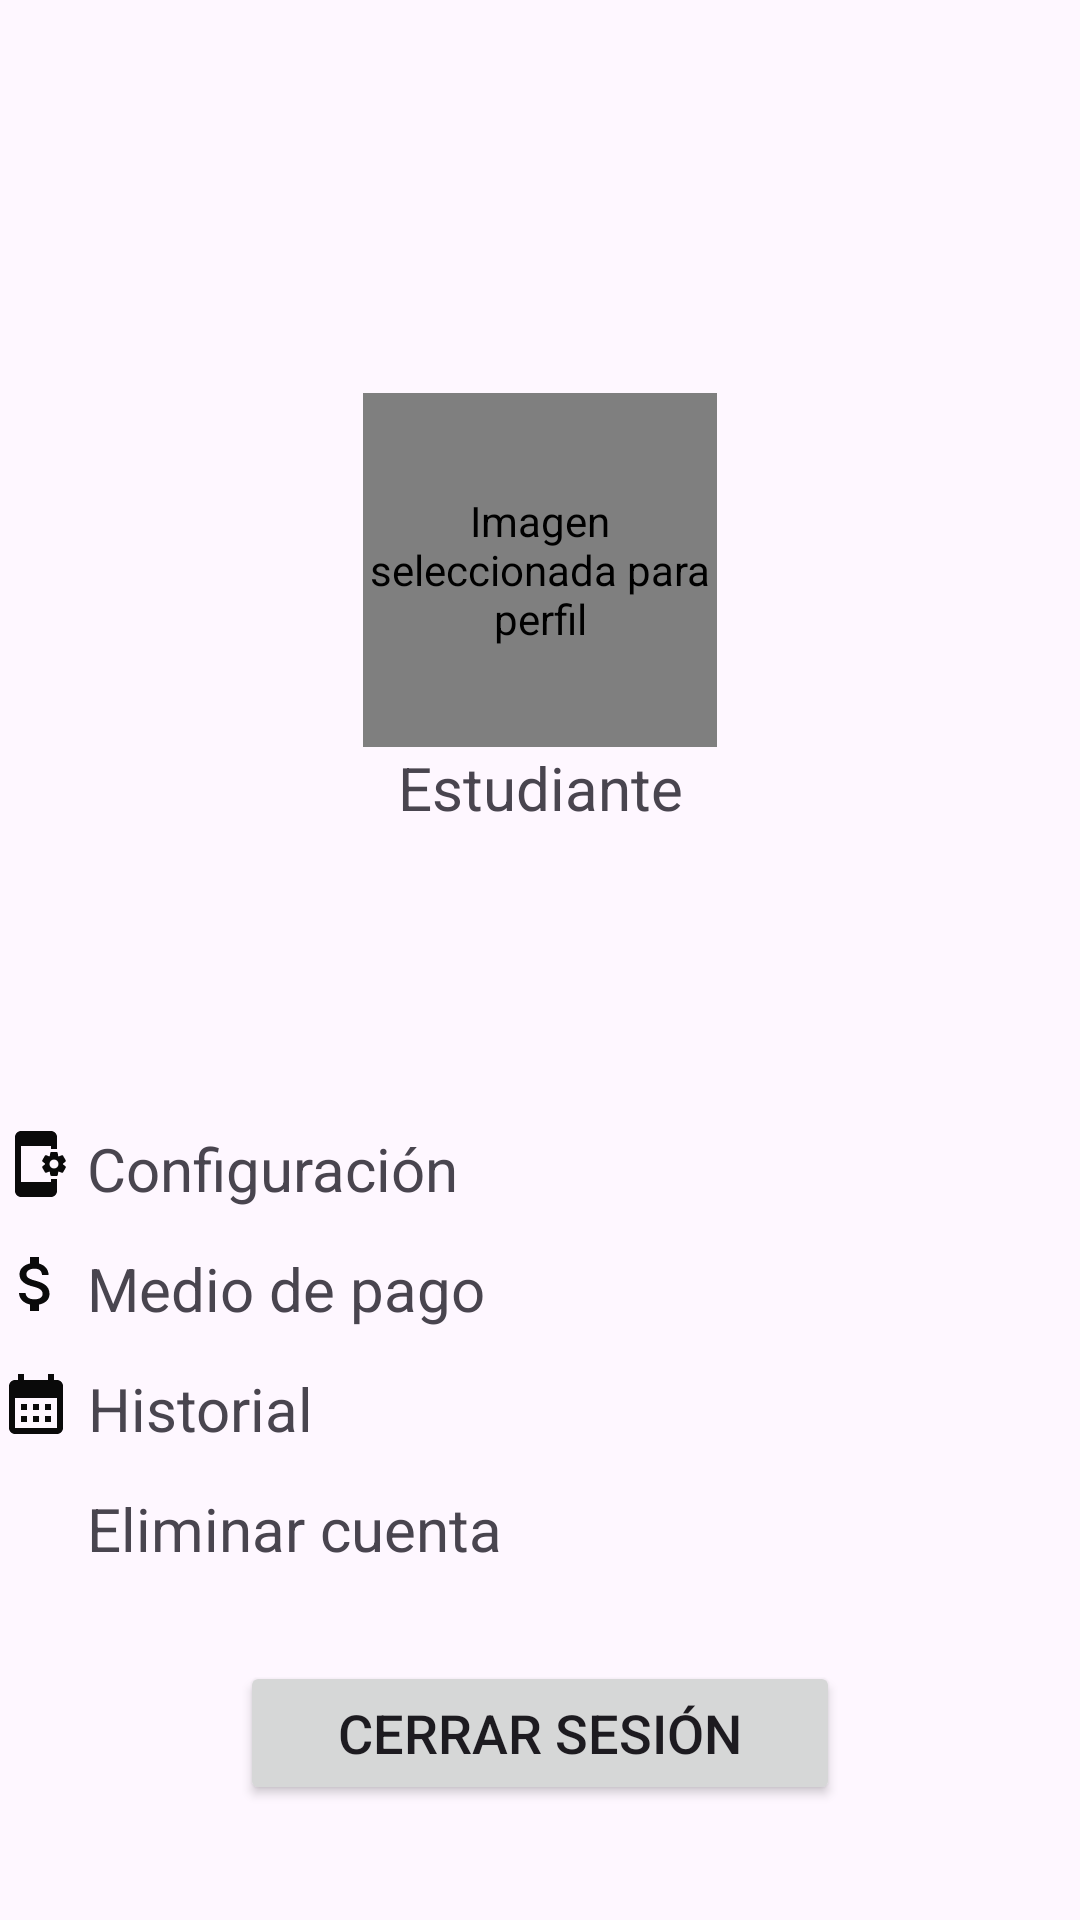

Icon bounding boxes for this 1080*1920 phone screenshot, format (x1, y1, x2, y2):
Descripcion icono medios de pago: (19, 1257, 50, 1311)
